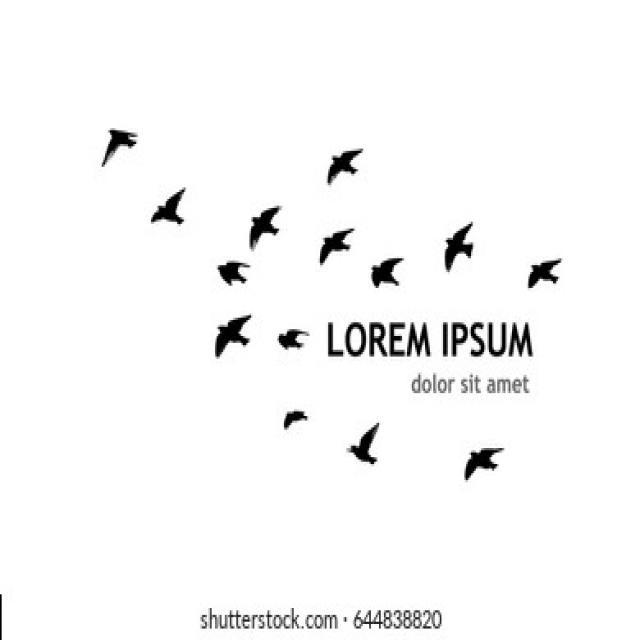bird: (510, 212, 589, 300), (214, 168, 293, 255), (322, 407, 412, 475), (447, 399, 511, 492), (120, 164, 192, 244), (290, 196, 370, 268), (202, 294, 270, 378), (354, 220, 416, 298), (316, 110, 372, 194), (84, 94, 146, 162), (427, 198, 480, 276), (268, 305, 331, 360), (200, 238, 264, 292), (260, 394, 308, 442)
